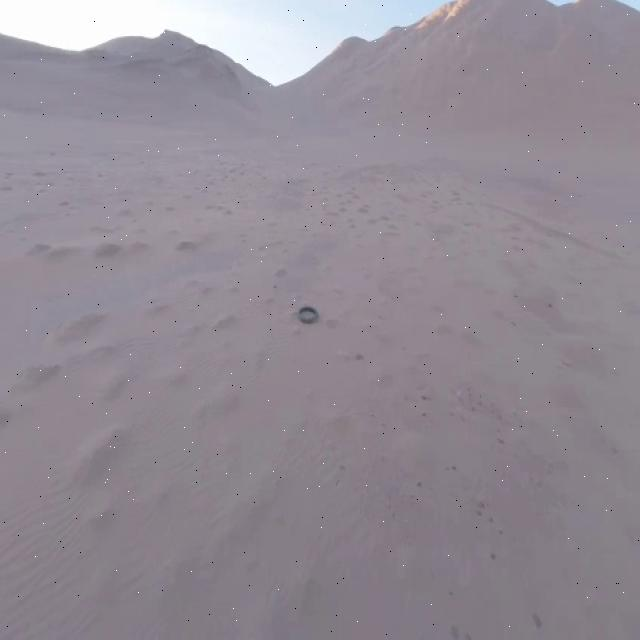Tire: (297, 305, 318, 323)
